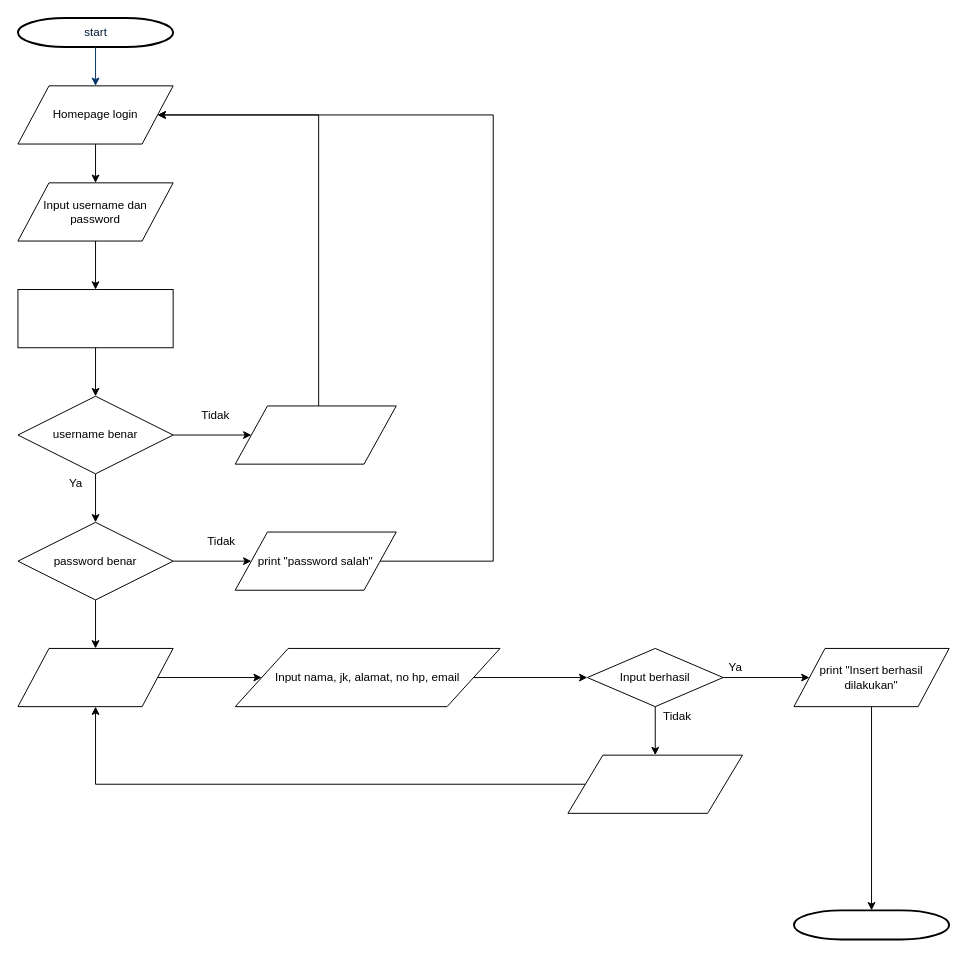
This 966x956 diagram has some shape labels left out. The shapes that lost their labels are listed below. From the top down, each one's centre as x and y in pixels, then its label:
point (95, 318): validasi username dan password
point (315, 434): print "username tidak ditemukan"
point (95, 677): Page form
point (655, 783): print " Insert tidak dapat dilakukan "
point (871, 924): end
